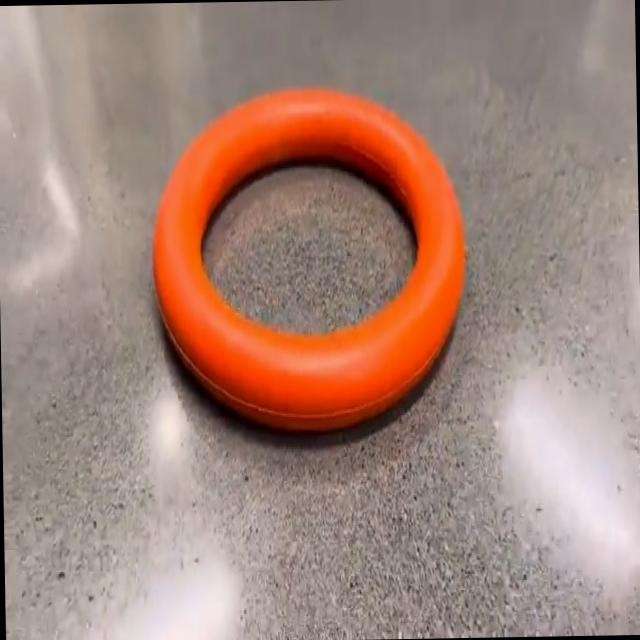note: (153, 89, 464, 430)
